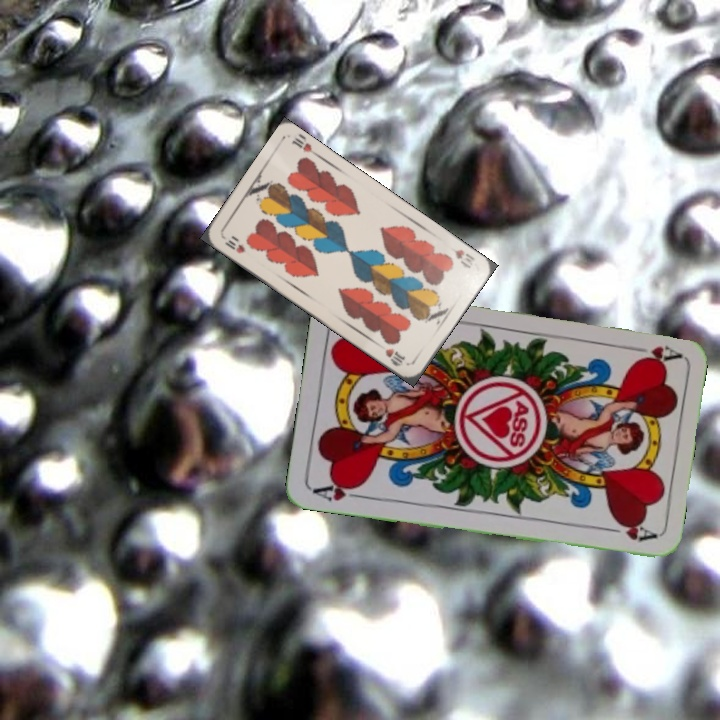H10: (447, 243, 477, 271), (219, 232, 248, 256)
HA: (309, 477, 369, 504), (623, 341, 682, 365)
